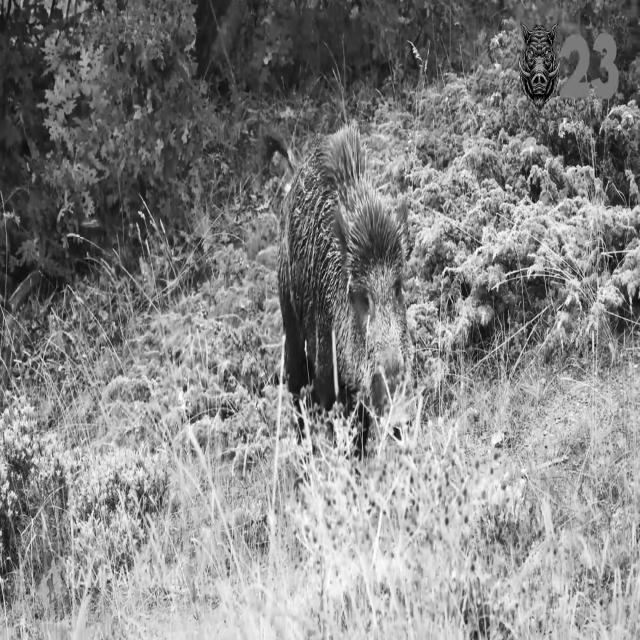boar: (278, 127, 411, 412)
